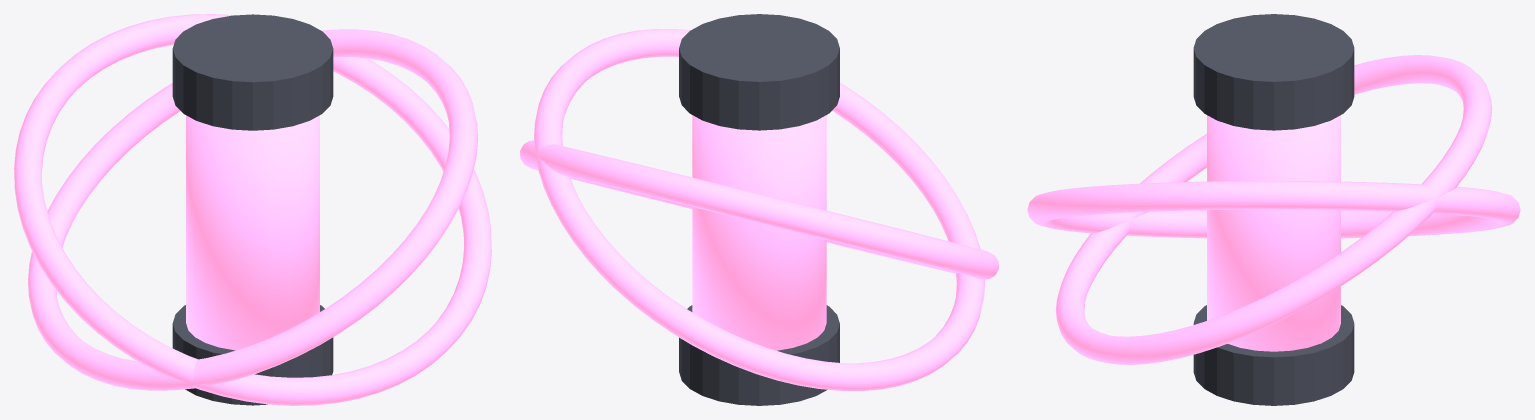
File: Core.fbx
The picture shows the model from 3 angles, left to right: view 1: azimuth 30°, elevation 25°; view 2: azimuth 150°, elevation 25°; view 3: azimuth 270°, elevation 25°; orthographic projection.
Parts seen in each view (by area): view 1: Ring.005, Vial, Ring2, Cap1, Cap0; view 2: Ring2, Vial, Cap1, Ring.005, Cap0; view 3: Ring.005, Vial, Ring2, Cap1, Cap0.
Boxes of the visible parts, x1,y1,x2,y2 form: Ring.005: (14,14,491,405); Vial: (186,115,319,350); Ring2: (28,29,477,390); Cap1: (172,14,333,130); Cap0: (172,305,333,405); Ring2: (534,29,984,390); Vial: (692,115,826,350); Cap1: (679,14,839,130); Ring.005: (520,140,998,279); Cap0: (679,305,839,405); Ring.005: (1055,55,1492,364); Vial: (1207,115,1340,351); Ring2: (1027,181,1520,238); Cap1: (1193,14,1354,130); Cap0: (1193,305,1354,405).
Size of the model in its own units: 0.552 by 0.4 by 0.552.
